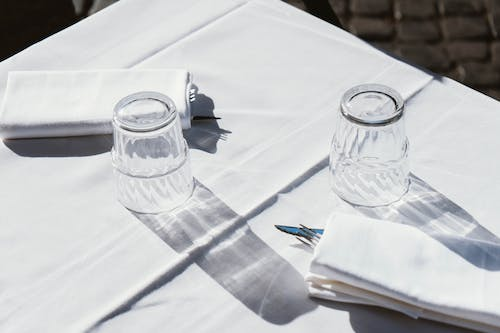knife: (270, 220, 327, 238), (190, 113, 223, 121)
